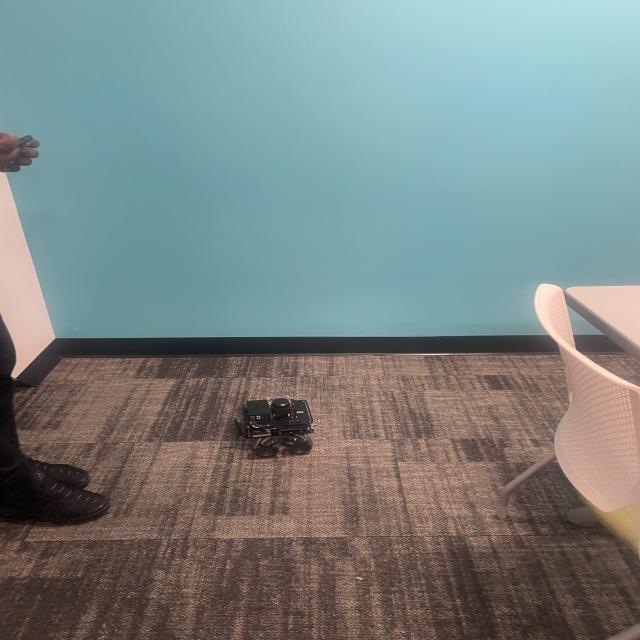ArduinoCar3: (224, 389, 321, 462)
